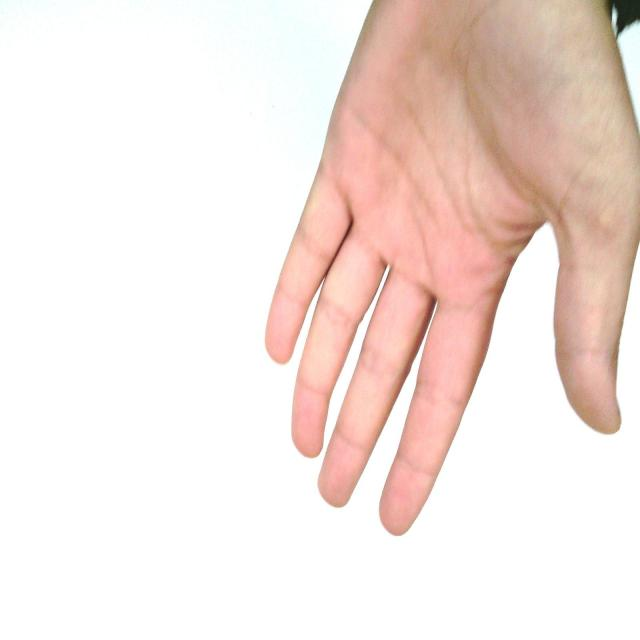others: (166, 0, 640, 588)
